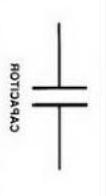Capacitor: (25, 67, 89, 122)
